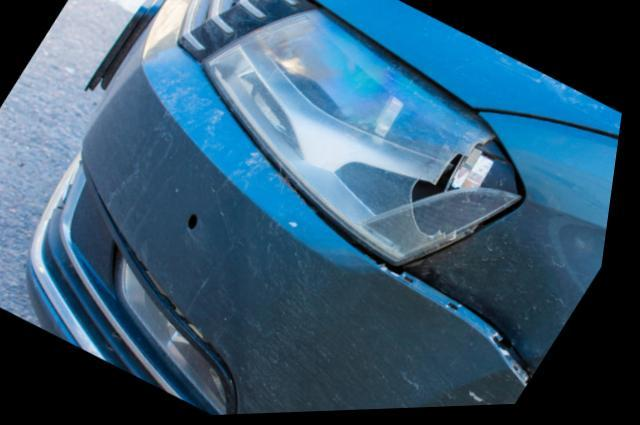dislocated part: (54, 50, 545, 417)
lamp broken: (201, 7, 526, 272)
